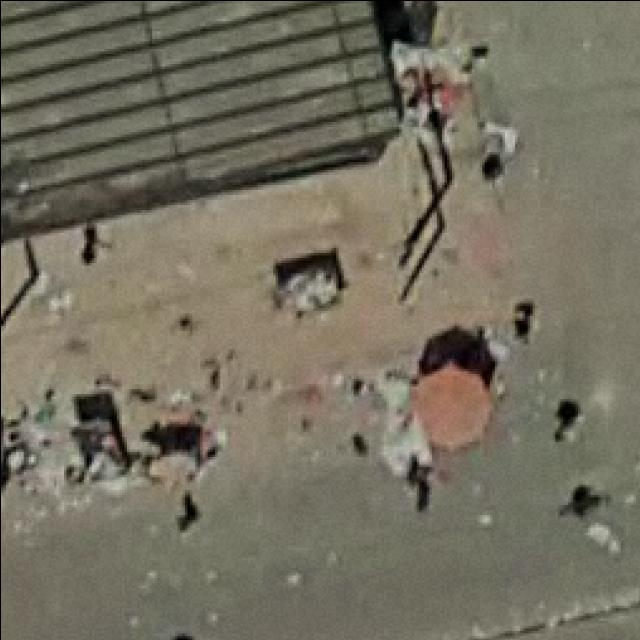vendedor_ambulante: (408, 358, 492, 450)
